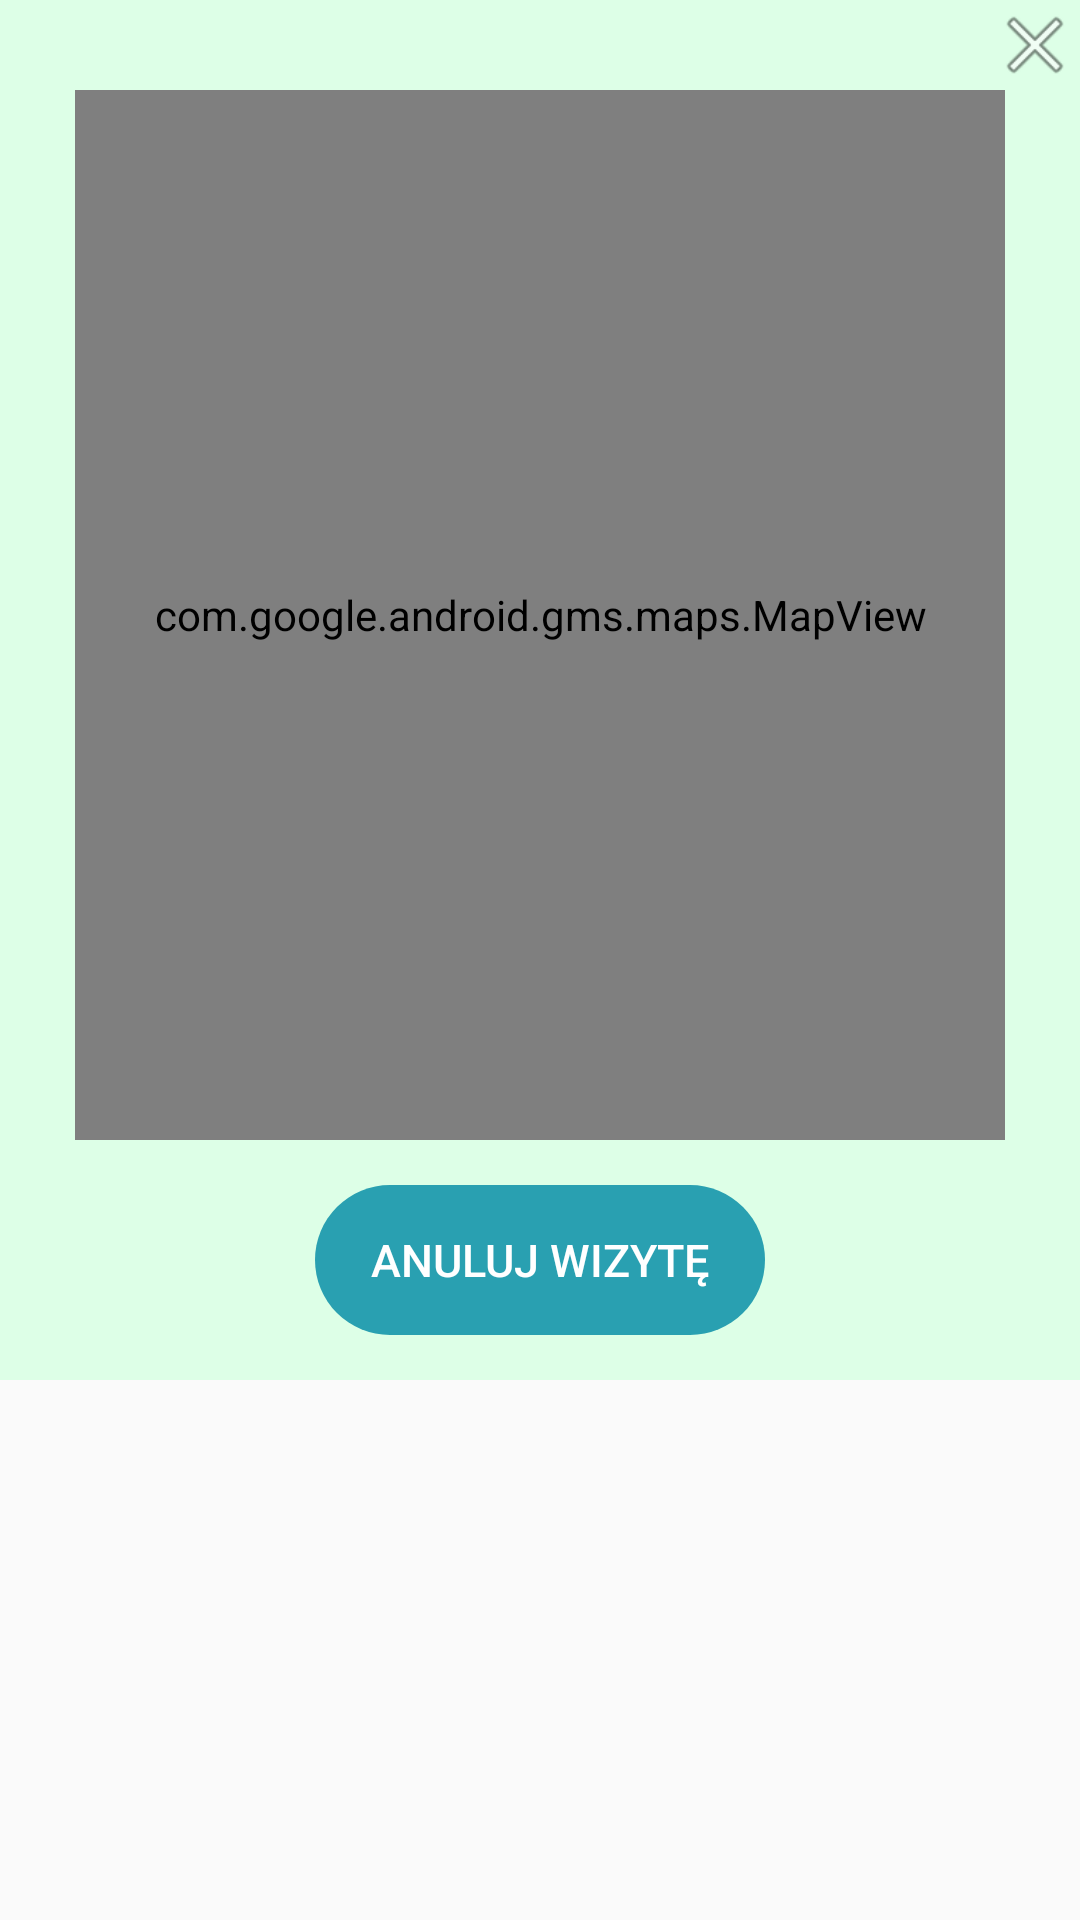

Icon click points for this 1080px x 1920px phone screenshot, format (x,y):
close clear cancel: (1035,45)
